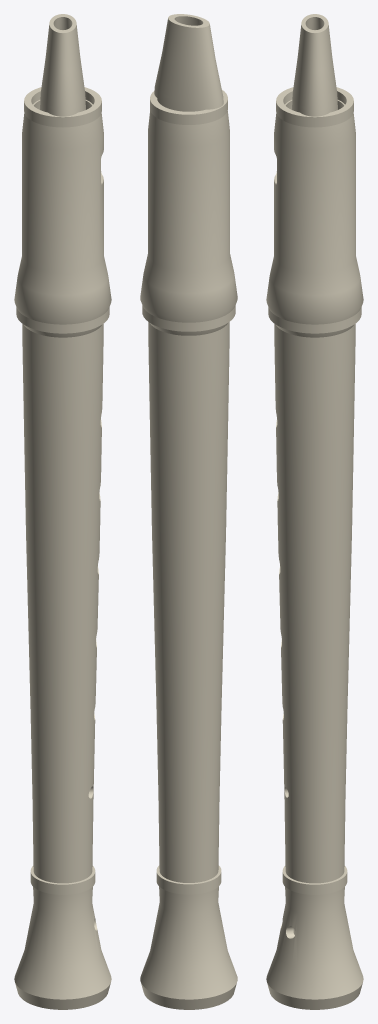
The model's file is A-NEW-20261026-RECORDER-WIND-INSTRUMENT-001_LOD1_R9.glb.
3 renders of one model, left to right at view 1: azimuth 90°, elevation 25°; view 2: azimuth 150°, elevation 25°; view 3: azimuth 270°, elevation 25°, orthographic.
Visible parts, largest first — view 1: tapered open recorder body, long head section, flared open foot, flattened beak, rounded joint collar.002, rounded joint collar.001, rounded joint collar; view 2: tapered open recorder body, long head section, flared open foot, flattened beak, rounded joint collar.002, rounded joint collar.001, rounded joint collar; view 3: tapered open recorder body, long head section, flared open foot, flattened beak, rounded joint collar.002, rounded joint collar.001, rounded joint collar.
Part boxes in pixels (bbox=[...]): tapered open recorder body: bbox=[22, 324, 103, 883]; long head section: bbox=[14, 100, 111, 337]; flared open foot: bbox=[14, 887, 111, 1009]; flattened beak: bbox=[40, 14, 85, 116]; rounded joint collar.002: bbox=[24, 87, 101, 127]; rounded joint collar.001: bbox=[16, 307, 109, 333]; rounded joint collar: bbox=[30, 866, 95, 894]; tapered open recorder body: bbox=[148, 322, 229, 882]; long head section: bbox=[140, 110, 237, 335]; flared open foot: bbox=[140, 886, 237, 1009]; flattened beak: bbox=[154, 14, 223, 111]; rounded joint collar.002: bbox=[150, 90, 227, 124]; rounded joint collar.001: bbox=[142, 305, 235, 331]; rounded joint collar: bbox=[156, 865, 221, 894]; tapered open recorder body: bbox=[274, 324, 355, 883]; long head section: bbox=[266, 100, 363, 337]; flared open foot: bbox=[266, 887, 363, 1009]; flattened beak: bbox=[292, 14, 337, 116]; rounded joint collar.002: bbox=[276, 87, 353, 127]; rounded joint collar.001: bbox=[268, 307, 361, 333]; rounded joint collar: bbox=[282, 866, 347, 894].
Bounding box in the file's own units: 0.03 × 0.329 × 0.03.
